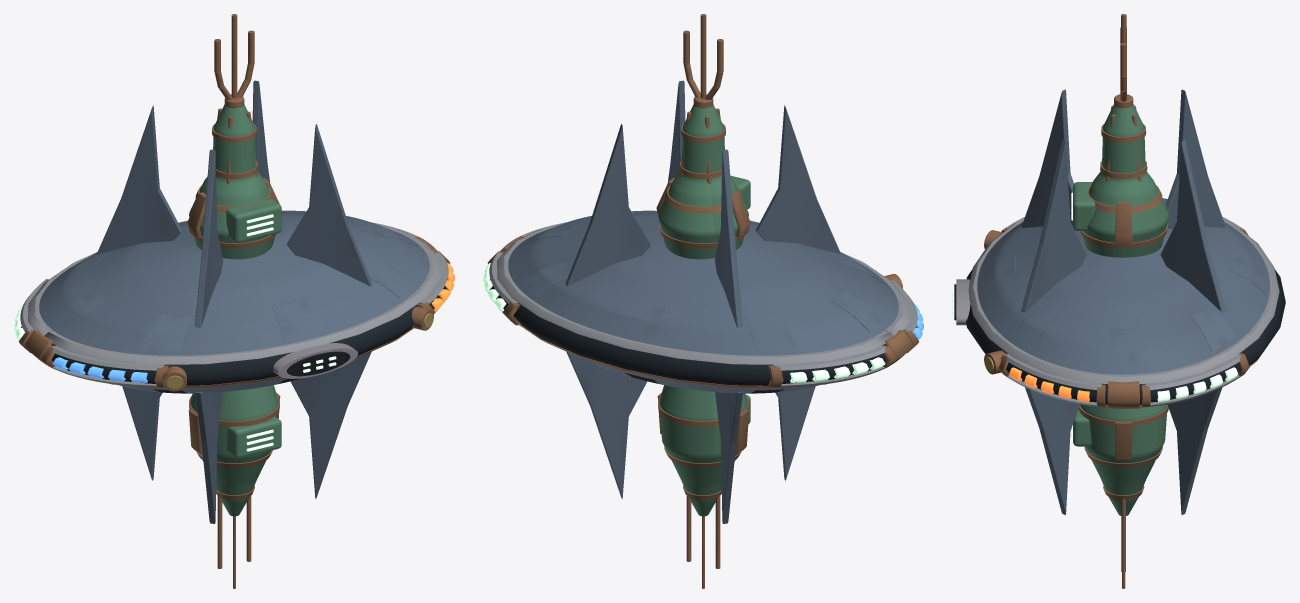
3 views of the same model, side by side, from view 1: azimuth 30°, elevation 25°; view 2: azimuth 150°, elevation 25°; view 3: azimuth 270°, elevation 25° (orthographic).
Visible parts, largest first — view 1: Observatory saucer pressure hull, Observatory axial green chambers, RI4C equatorial equipment band 2, Observatory pointed fin 1 3, Observatory pointed fin 1 1, RI4C equatorial equipment band 0, Observatory pointed fin -1 3, Observatory pointed fin 1 2, Observatory pointed fin -1 2, Observatory pointed fin -1 1, RI4C chamber equipment face 1, RI4C chamber equipment face -1 (+9 smaller); view 2: Observatory saucer pressure hull, Observatory axial green chambers, RI4C equatorial equipment band 0, RI4C equatorial equipment band 2, Observatory pointed fin 1 0, Observatory pointed fin 1 2, Observatory pointed fin -1 0, Observatory pointed fin 1 1, Observatory pointed fin -1 1, Observatory pointed fin -1 2, Observatory upper service plate 2, Observatory upper service plate 3 (+6 smaller); view 3: Observatory saucer pressure hull, Observatory axial green chambers, RI4C equatorial equipment band 2, Observatory pointed fin 1 3, Observatory pointed fin 1 0, RI4C equatorial equipment band 0, Observatory pointed fin -1 3, Observatory pointed fin -1 0, Observatory pointed fin 1 1, Observatory pointed fin 1 2, Observatory upper service plate 0, Observatory upper service plate 7 (+14 smaller).
Boxes of the visible parts, box(x1,y1,x2,y2) form: Observatory saucer pressure hull: box(39, 212, 429, 393); Observatory axial green chambers: box(189, 104, 278, 516); RI4C equatorial equipment band 2: box(28, 223, 440, 364); Observatory pointed fin 1 3: box(287, 124, 372, 286); Observatory pointed fin 1 1: box(96, 105, 181, 254); RI4C equatorial equipment band 0: box(21, 279, 448, 385); Observatory pointed fin -1 3: box(290, 351, 371, 498); Observatory pointed fin 1 2: box(195, 149, 223, 327); Observatory pointed fin -1 2: box(194, 392, 222, 523); Observatory pointed fin -1 1: box(122, 386, 162, 480); RI4C chamber equipment face 1: box(226, 198, 281, 242); RI4C chamber equipment face -1: box(227, 416, 281, 458); Observatory saucer pressure hull: box(508, 212, 898, 393); Observatory axial green chambers: box(658, 104, 748, 516); RI4C equatorial equipment band 0: box(489, 279, 916, 385); RI4C equatorial equipment band 2: box(497, 223, 909, 364); Observatory pointed fin 1 0: box(565, 124, 650, 286); Observatory pointed fin 1 2: box(756, 105, 841, 254); Observatory pointed fin -1 0: box(566, 351, 647, 498); Observatory pointed fin 1 1: box(714, 149, 742, 327); Observatory pointed fin -1 1: box(715, 392, 743, 523); Observatory pointed fin -1 2: box(775, 386, 815, 480); Observatory upper service plate 2: box(611, 299, 665, 340); Observatory upper service plate 3: box(744, 313, 798, 351); Observatory saucer pressure hull: box(977, 198, 1269, 407); Observatory axial green chambers: box(1080, 104, 1168, 515); RI4C equatorial equipment band 2: box(968, 219, 1279, 384); Observatory pointed fin 1 3: box(1021, 140, 1086, 312); Observatory pointed fin 1 0: box(1160, 140, 1226, 312); RI4C equatorial equipment band 0: box(966, 269, 1285, 404); Observatory pointed fin -1 3: box(1025, 387, 1079, 514); Observatory pointed fin -1 0: box(1167, 387, 1222, 514); Observatory pointed fin 1 1: box(1165, 89, 1225, 228); Observatory pointed fin 1 2: box(1021, 89, 1073, 227); Observatory upper service plate 0: box(1106, 328, 1140, 369); Observatory upper service plate 7: box(1011, 304, 1056, 351).
Size of the model in its own units: 4.28 by 5.75 by 3.03.
11 materials, 3 textured.
